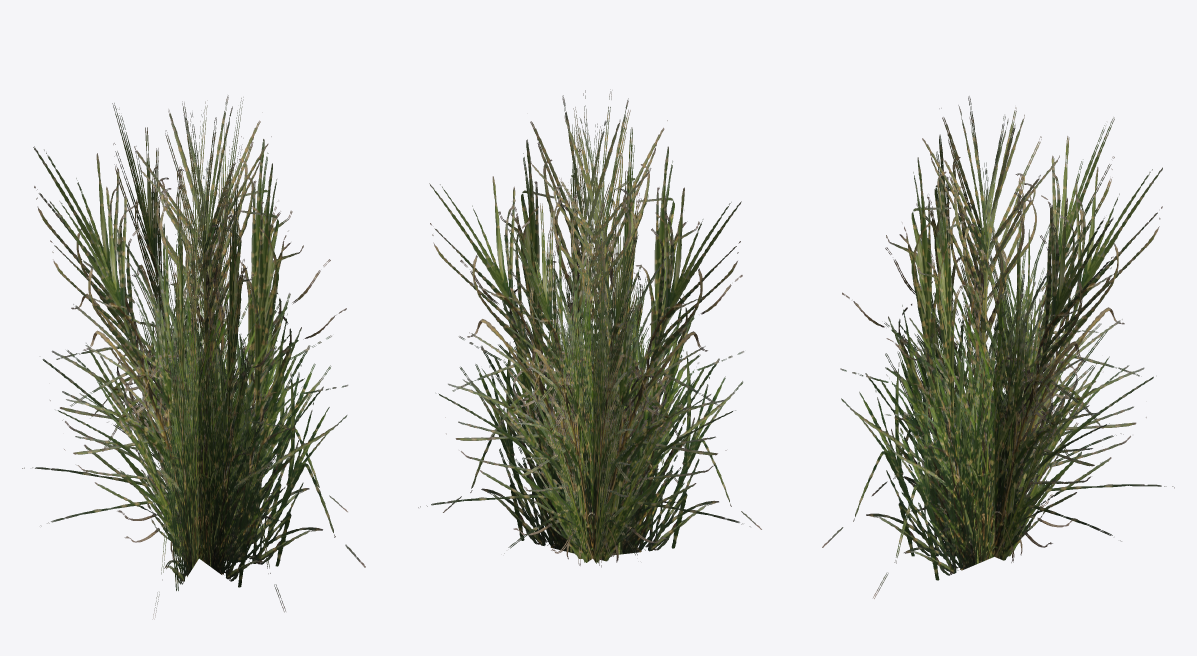
The model's file is Bush3.fbx.
The picture shows the model from 3 angles, left to right: view 1: azimuth 30°, elevation 25°; view 2: azimuth 150°, elevation 25°; view 3: azimuth 270°, elevation 25°; orthographic projection.
Parts seen in each view (by area): view 1: Bush3; view 2: Bush3; view 3: Bush3.
Part boxes in pixels (x1,y1,x2,y2): Bush3: (22, 95, 365, 619); Bush3: (418, 89, 761, 567); Bush3: (822, 96, 1174, 598).
Size of the model in its own units: 200 by 275 by 200.
